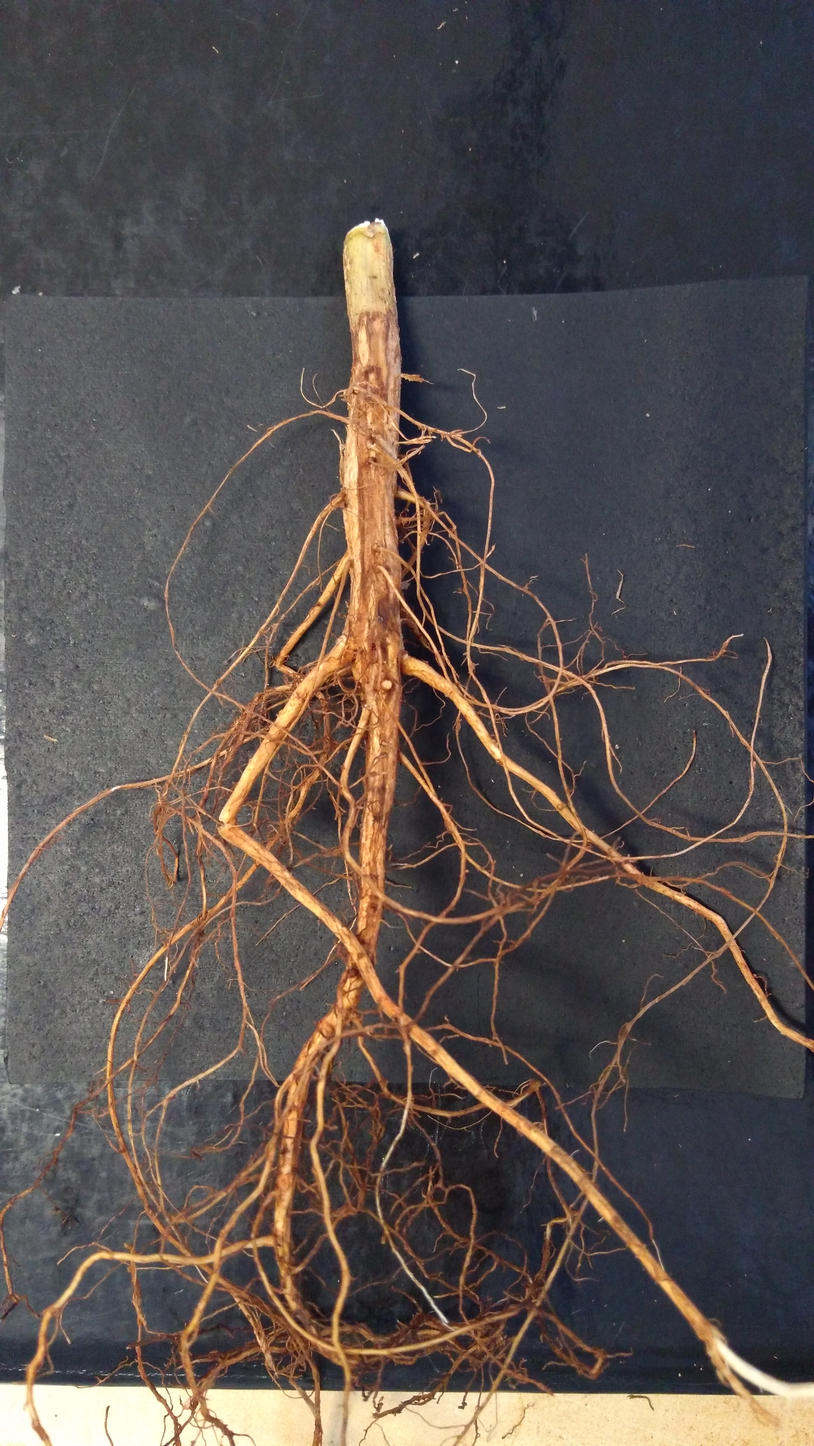nodule: (317, 1336, 359, 1368), (467, 1341, 489, 1368), (476, 1324, 495, 1351), (403, 1328, 420, 1352), (336, 942, 350, 960), (528, 1077, 542, 1089), (494, 1335, 508, 1347), (233, 720, 248, 730), (380, 679, 393, 690), (253, 692, 261, 705), (400, 580, 410, 590), (343, 389, 350, 401), (369, 450, 376, 458), (201, 786, 208, 793), (465, 869, 470, 874), (232, 781, 235, 785)
